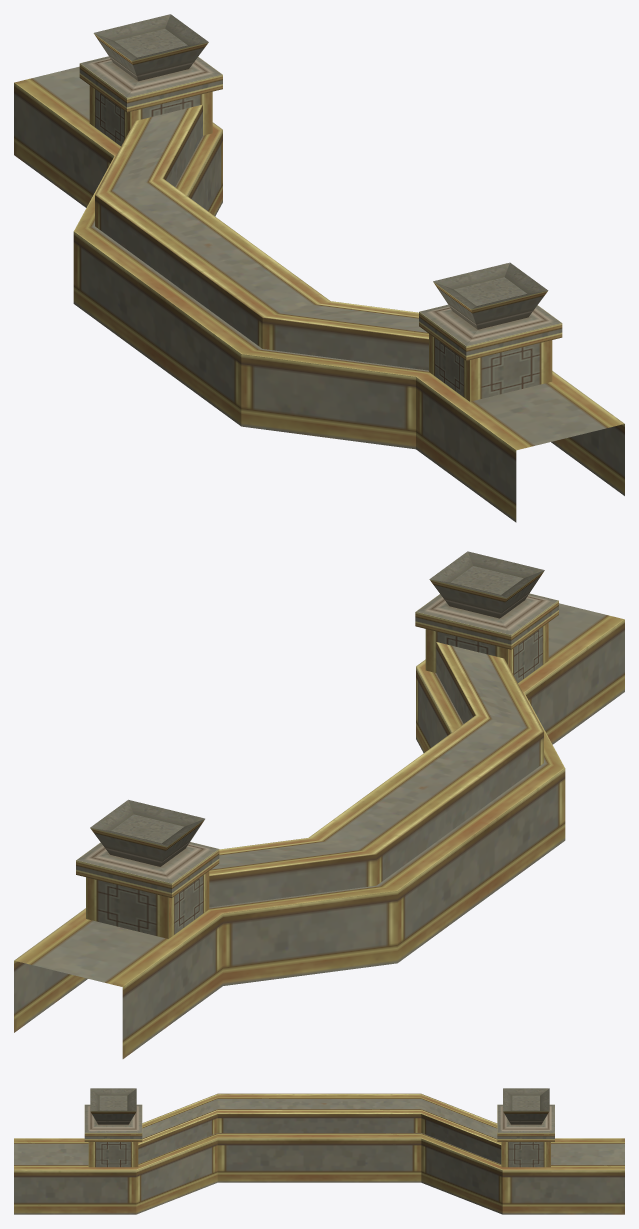
File: MJ_zhanqin_02.FBX
3 views of the same model, one above another, from view 1: azimuth 30°, elevation 25°; view 2: azimuth 150°, elevation 25°; view 3: azimuth 270°, elevation 25° (orthographic). The views are drawn at different scales.
Parts seen in each view (by area): view 1: Object01; view 2: Object01; view 3: Object01.
Boxes of the visible parts, x1,y1,x2,y2 form: Object01: (14,14,624,522); Object01: (14,551,624,1058); Object01: (14,1088,624,1214).
Bounding box in the file's own units: 4.97 × 3.59 × 20.
